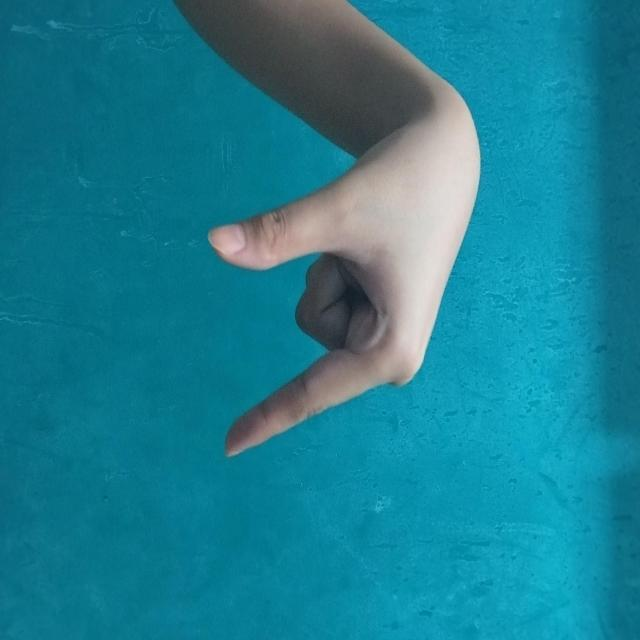Q: (101, 157, 461, 438)
